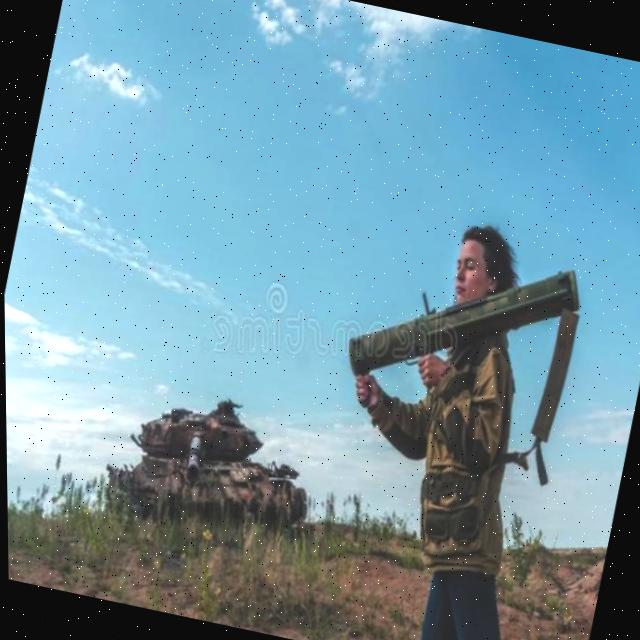rocket: (322, 213, 602, 421)
